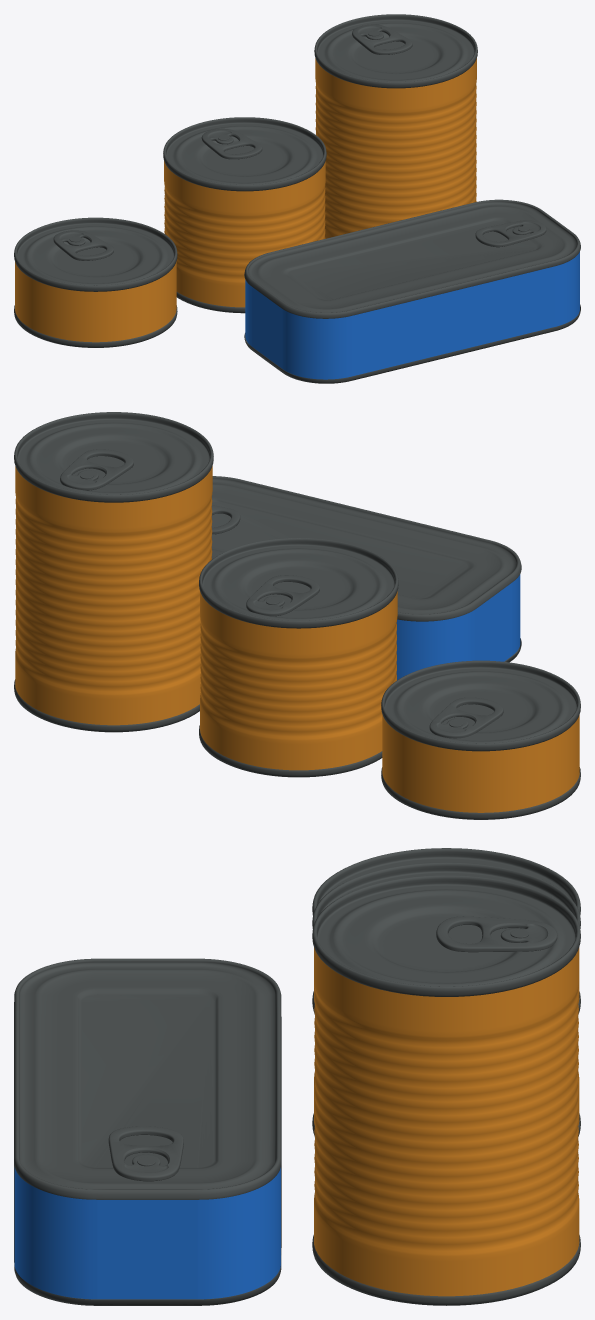
The model's file is tin_cans.fbx.
The picture shows the model from 3 angles, top to bottom: view 1: azimuth 30°, elevation 25°; view 2: azimuth 150°, elevation 25°; view 3: azimuth 270°, elevation 25°; orthographic projection. The views are drawn at different scales.
Parts seen in each view (by area): view 1: Cylinder, Cap_2, Cylinder_2, Extrude, Cylinder_3, Opener, Opener_2, Opener_4, Opener_3; view 2: Cylinder, Cylinder_2, Cylinder_3, Cap_2, Extrude, Opener_4, Opener_3, Opener_2; view 3: Cylinder, Cap_2, Extrude, Cylinder_3, Cylinder_2, Opener_2, Opener.
Boxes of the visible parts, bbox=[...] form: Cylinder: bbox=[314, 14, 477, 238]; Cap_2: bbox=[244, 199, 580, 383]; Cylinder_2: bbox=[163, 117, 326, 313]; Extrude: bbox=[245, 252, 579, 379]; Cylinder_3: bbox=[14, 217, 177, 347]; Opener: bbox=[475, 220, 546, 247]; Opener_2: bbox=[352, 24, 412, 54]; Opener_4: bbox=[53, 230, 113, 260]; Opener_3: bbox=[201, 128, 262, 159]; Cylinder: bbox=[14, 412, 213, 732]; Cylinder_2: bbox=[199, 538, 398, 777]; Cylinder_3: bbox=[381, 660, 580, 819]; Cap_2: bbox=[211, 476, 521, 662]; Extrude: bbox=[396, 574, 520, 680]; Opener_4: bbox=[429, 697, 503, 738]; Opener_3: bbox=[246, 575, 319, 616]; Opener_2: bbox=[60, 449, 133, 490]; Cylinder: bbox=[312, 875, 580, 1305]; Cap_2: bbox=[14, 958, 281, 1305]; Extrude: bbox=[14, 1167, 280, 1299]; Cylinder_3: bbox=[312, 848, 580, 1014]; Cylinder_2: bbox=[312, 862, 580, 1136]; Opener_2: bbox=[436, 916, 557, 952]; Opener: bbox=[108, 1126, 183, 1181].
Bounding box in the file's own units: 505 × 211 × 340.
